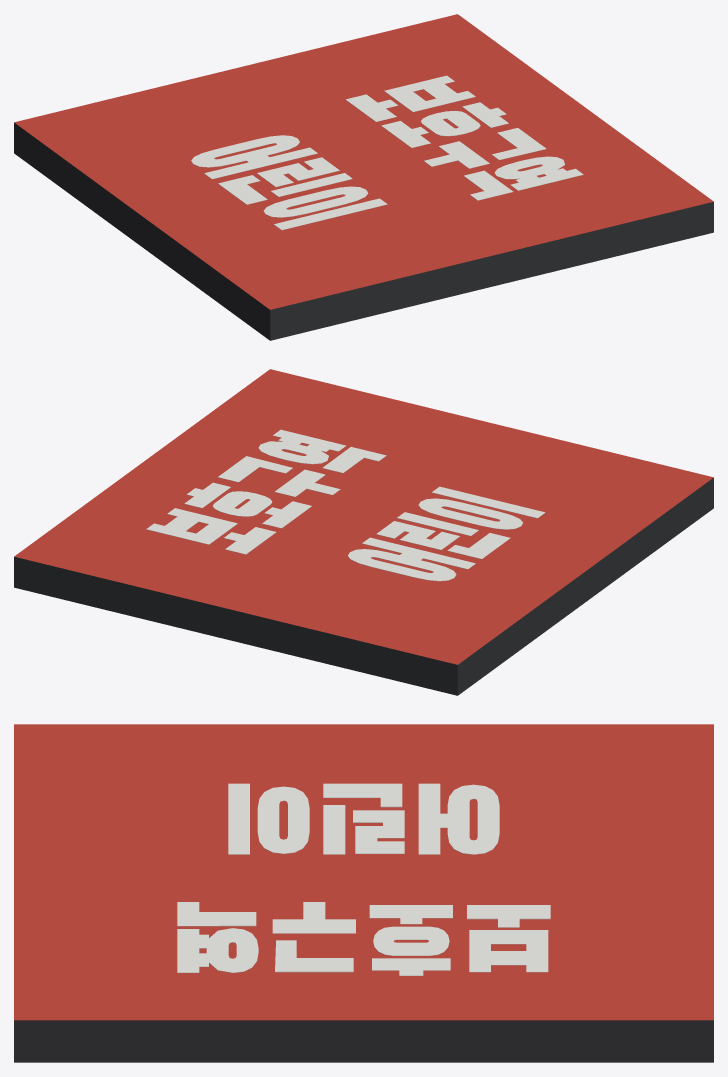
Rendered from SC_Gnd_Road_SchoolZone_3x3.gltf.
The picture shows the model from 3 angles, top to bottom: view 1: azimuth 30°, elevation 25°; view 2: azimuth 150°, elevation 25°; view 3: azimuth 270°, elevation 25°; orthographic projection. The views are drawn at different scales.
Parts seen in each view (by area): view 1: SC_Gnd_Road_SchoolZone_3x3; view 2: SC_Gnd_Road_SchoolZone_3x3; view 3: SC_Gnd_Road_SchoolZone_3x3.
Boxes of the visible parts, bbox=[...] form: SC_Gnd_Road_SchoolZone_3x3: bbox=[14, 14, 713, 340]; SC_Gnd_Road_SchoolZone_3x3: bbox=[14, 369, 713, 695]; SC_Gnd_Road_SchoolZone_3x3: bbox=[14, 724, 713, 1062].
Size of the model in its own units: 3 by 0.203 by 3.
Materials: 1 (1 with a texture image).
